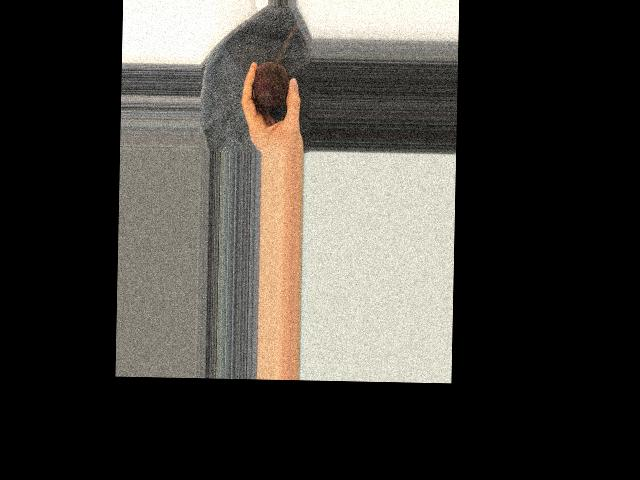beet: (252, 61, 289, 108)
